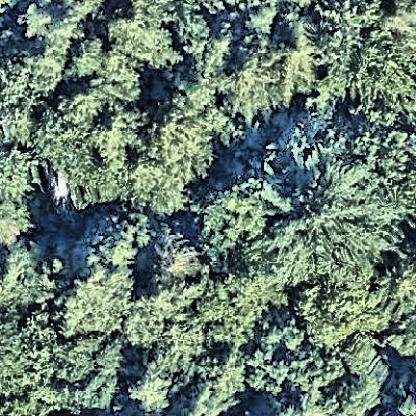tree-top: (120, 267, 260, 416), (252, 157, 391, 281), (45, 208, 154, 340), (195, 20, 323, 129), (3, 309, 124, 413), (309, 5, 416, 122), (33, 95, 136, 210), (127, 100, 220, 220), (1, 1, 93, 104), (284, 275, 387, 353), (193, 180, 274, 274), (249, 330, 344, 405), (358, 125, 416, 220), (103, 10, 184, 72), (344, 332, 402, 416), (1, 142, 37, 253), (1, 240, 53, 313), (386, 264, 416, 361)
